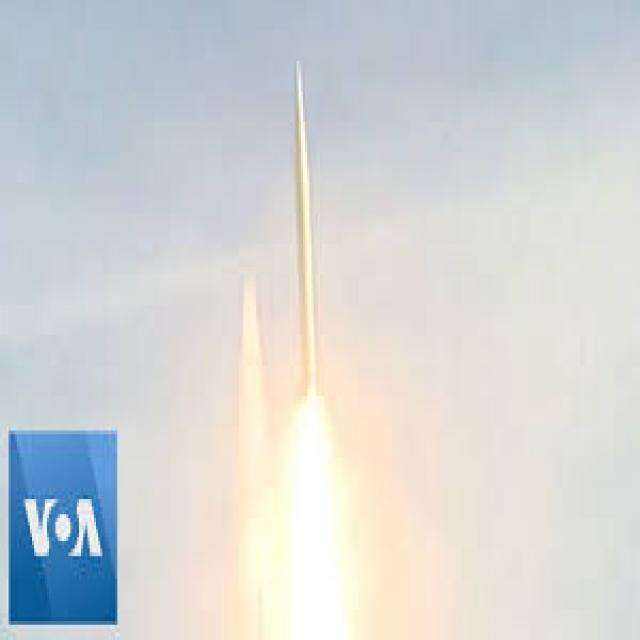missile: (282, 58, 334, 402)
